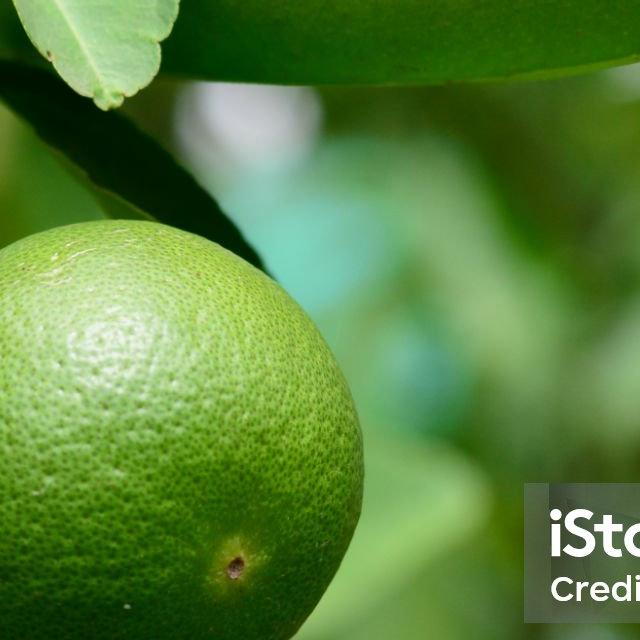lime: (0, 218, 371, 640)
